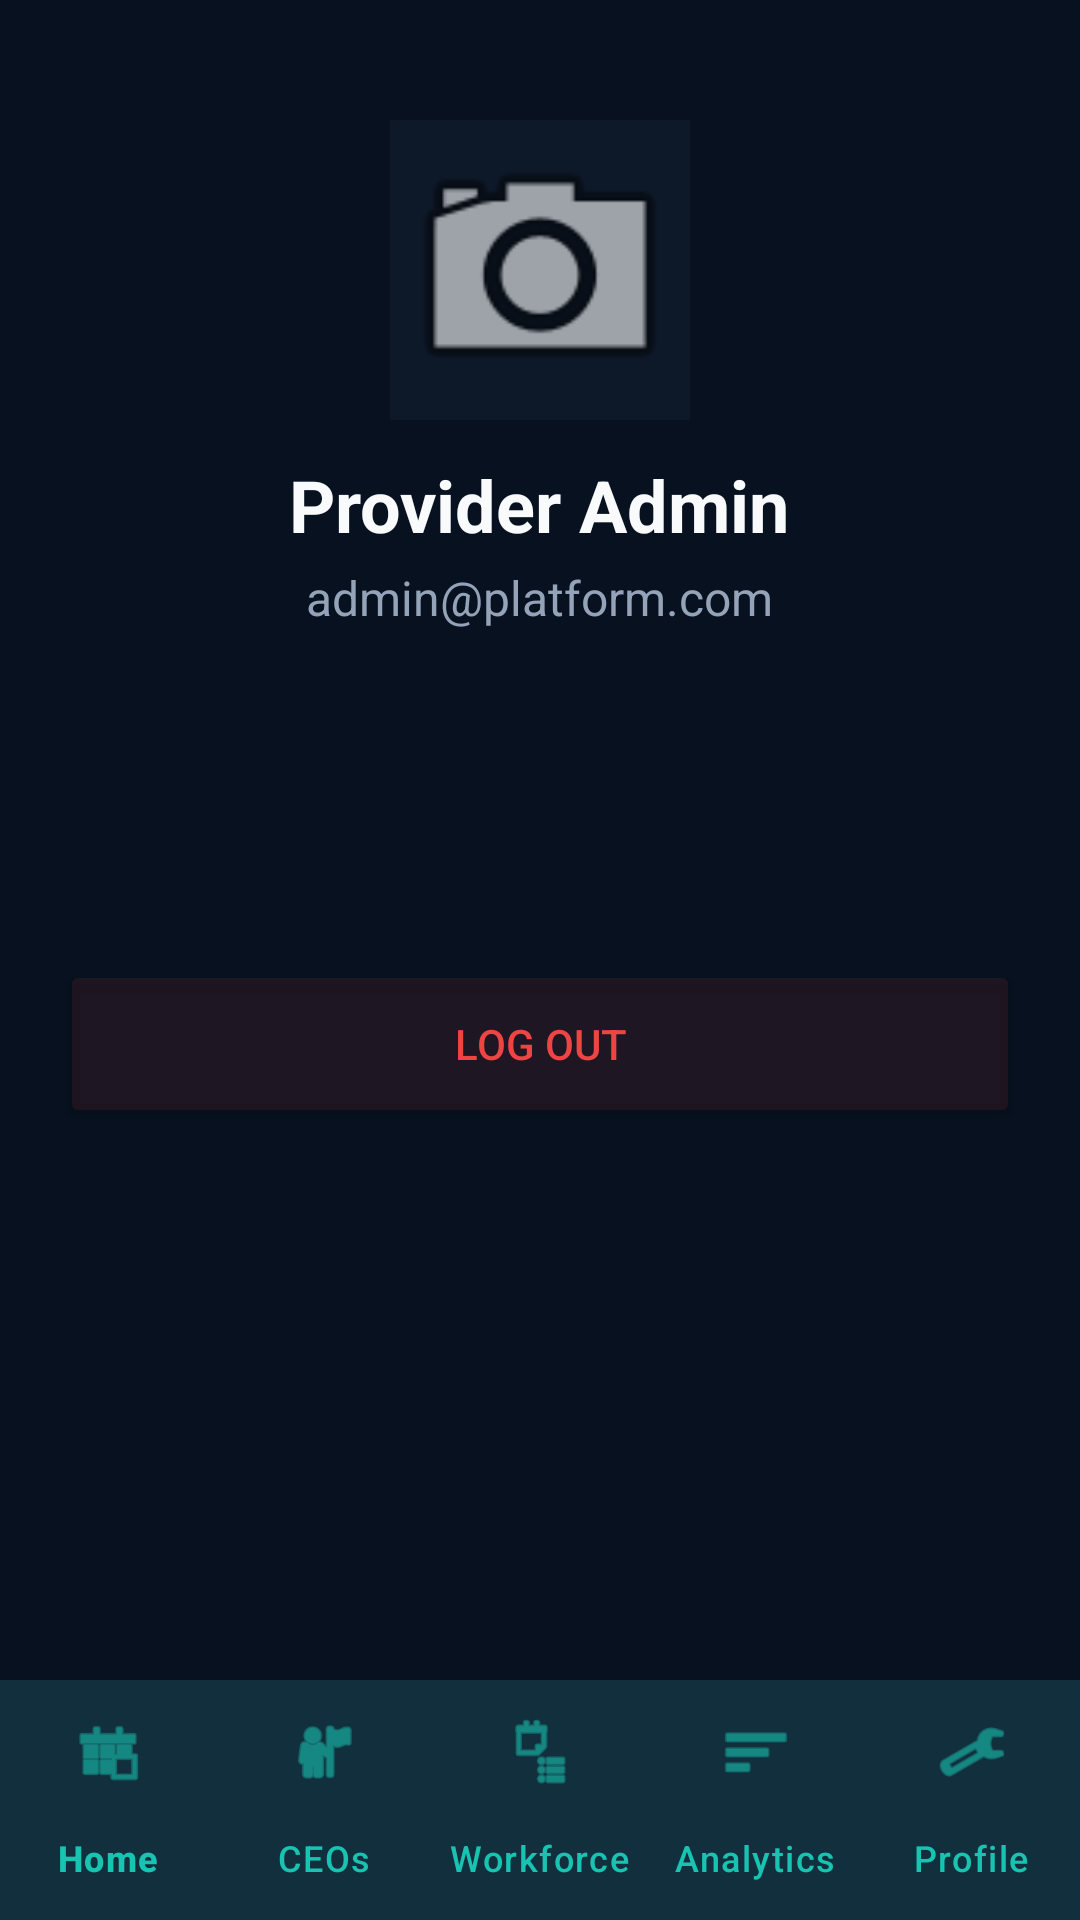

Screen size 1080×1920. Icon name, then its center in pixels as (x,y):
camera: (540,265)
